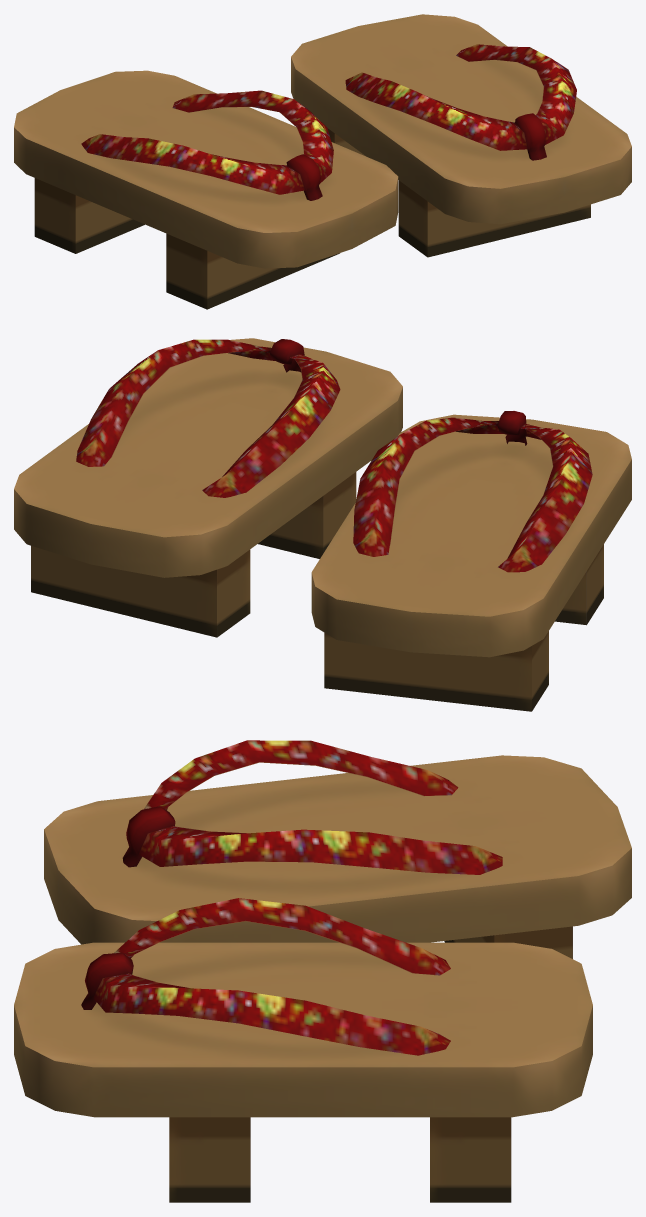
3 views of the same model, one above another, from view 1: azimuth 30°, elevation 25°; view 2: azimuth 150°, elevation 25°; view 3: azimuth 270°, elevation 25° (orthographic). The views are drawn at different scales.
Parts seen in each view (by area): view 1: wq_wj010_01; view 2: wq_wj010_01; view 3: wq_wj010_01.
Part boxes in pixels (x1,y1,x2,y2): wq_wj010_01: [14, 14, 631, 309]; wq_wj010_01: [14, 338, 631, 711]; wq_wj010_01: [14, 740, 631, 1202].
Size of the model in its own units: 55.98 by 16.94 by 46.86.
1 material, 1 textured.
